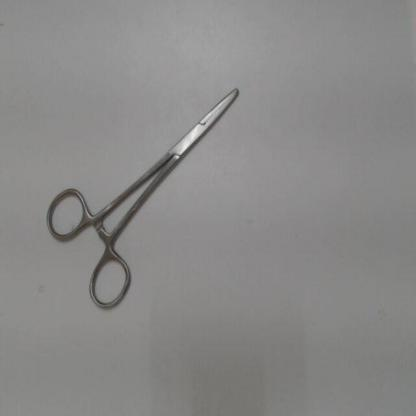Mayo Needle Holder: (37, 60, 260, 323)
